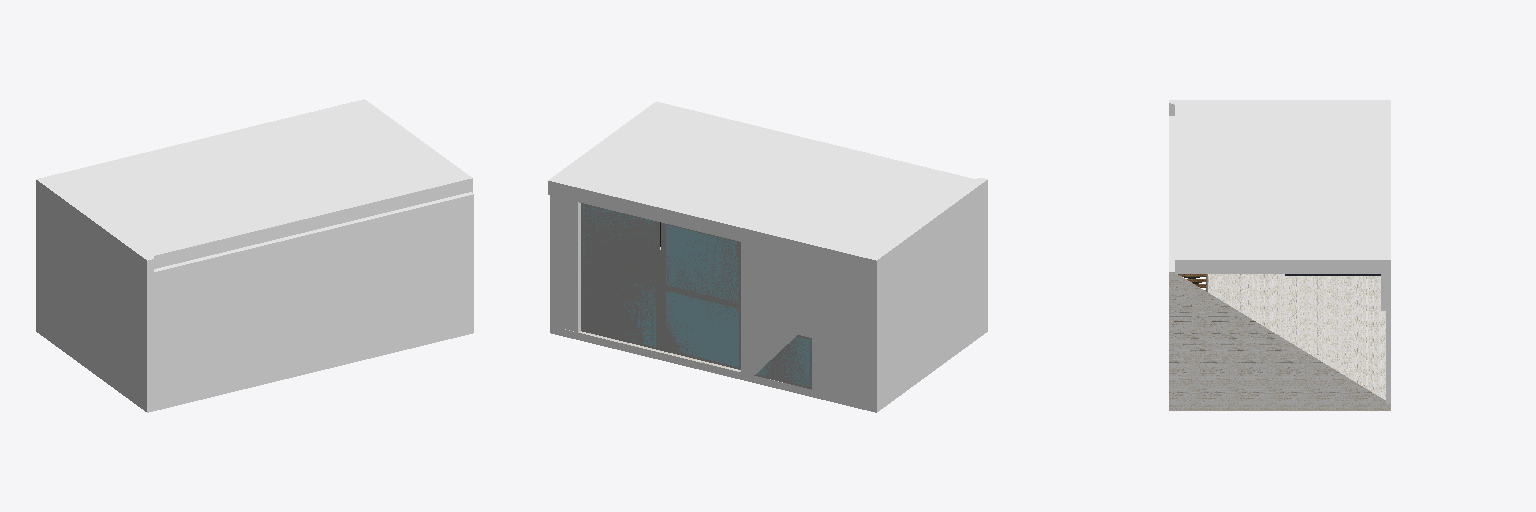
The picture shows the model from 3 angles: view 1: azimuth 30°, elevation 25°; view 2: azimuth 150°, elevation 25°; view 3: azimuth 270°, elevation 25°; orthographic projection.
Parts seen in each view (by area): view 1: Mesh186 Model; view 2: Mesh186 Model, Mesh83 ventana_1_3 Model, Mesh81 ventana_1_1 Model, Mesh82 ventana_1_2 Model, Mesh84 ventana_1_4 Model, Mesh185 ventana_1_6 Stair_details1 Model; view 3: Mesh186 Model.
Part boxes in pixels (bbox=[...]): Mesh186 Model: bbox=[36, 99, 473, 412]; Mesh186 Model: bbox=[548, 101, 987, 412]; Mesh83 ventana_1_3 Model: bbox=[661, 223, 740, 305]; Mesh81 ventana_1_1 Model: bbox=[581, 267, 660, 350]; Mesh82 ventana_1_2 Model: bbox=[661, 287, 740, 369]; Mesh84 ventana_1_4 Model: bbox=[581, 203, 660, 285]; Mesh185 ventana_1_6 Stair_details1 Model: bbox=[780, 335, 811, 389]; Mesh186 Model: bbox=[1169, 100, 1390, 410].
Size of the model in its own units: 20.2 by 8.94 by 11.85.
Materials: 17 (3 with a texture image).